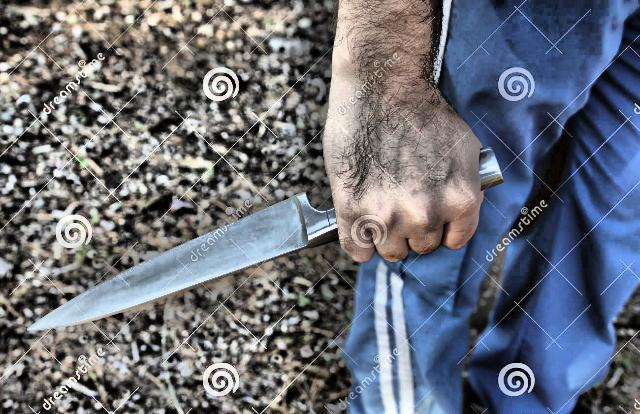knife: (18, 160, 456, 338)
